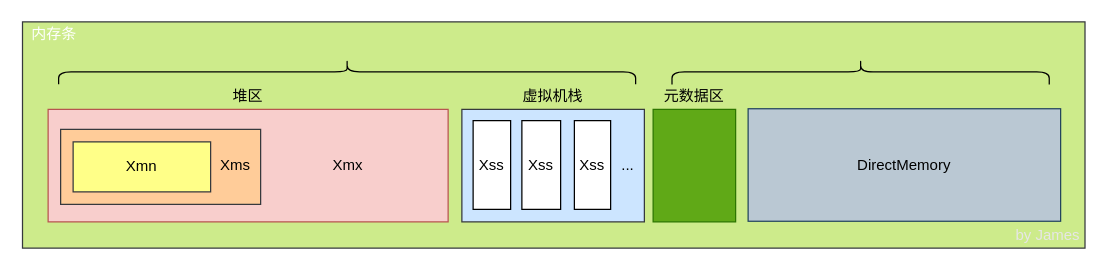
The diagram is 1119 pixels wide and 270 high, and some of its shapes have lost their labels. The shapes that lost their labels are listed below. From the top down, each one's centre as x and y in pixels, then its label:
At (x=346, y=71): "JVM数据区".
At (x=860, y=71): "本地内存区".
At (x=694, y=165): "Meta".
